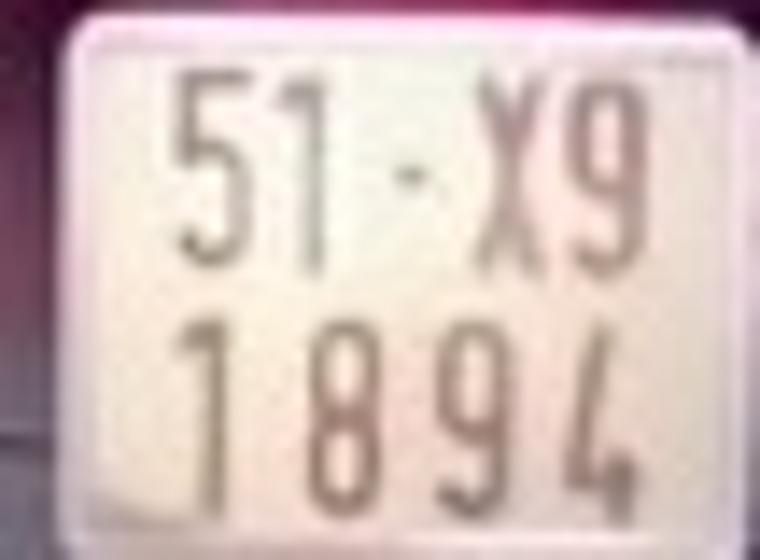-: (377, 158, 441, 206)
1: (278, 66, 339, 280), (188, 318, 240, 525)
4: (559, 325, 646, 532)
5: (166, 60, 268, 273)
8: (308, 326, 389, 519)
9: (563, 76, 669, 294), (434, 324, 518, 527)
X: (459, 65, 556, 284)
